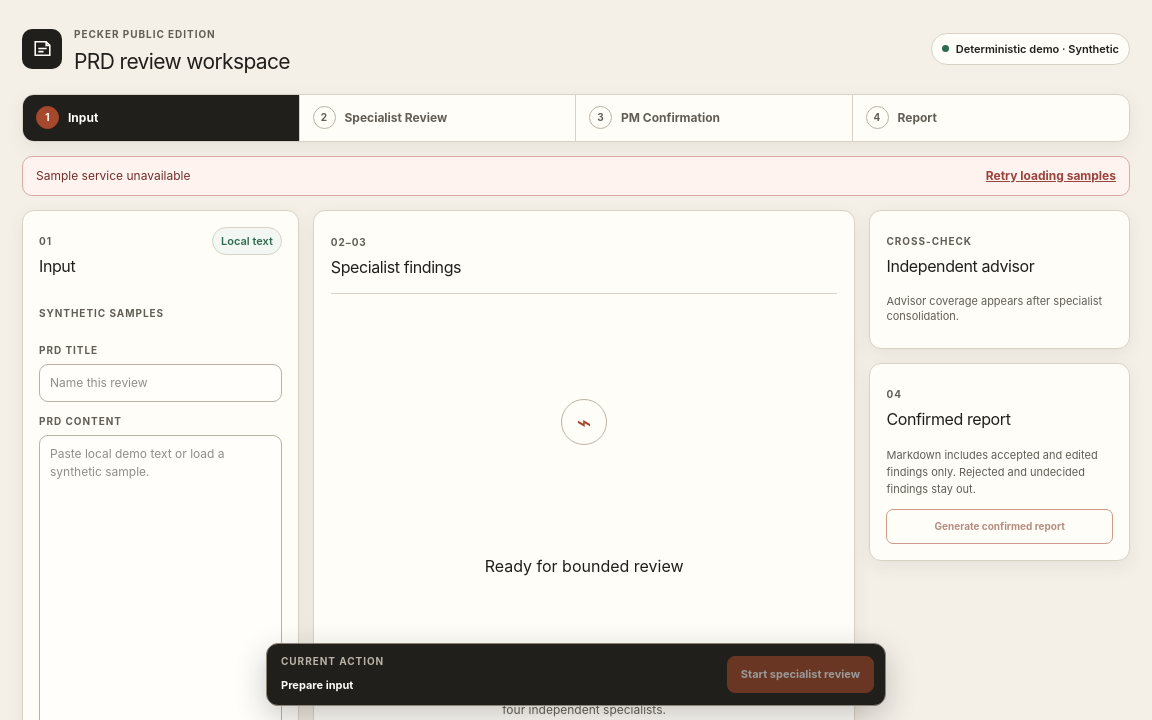
Test: ReviewWorkspace › recovers after the sample API fails
Check: the message shows "Sample service unavailable", box [36,168,190,182]
Step 1. Click the button "Retry loading samples" → click(1051, 176), box [986,166,1116,184]
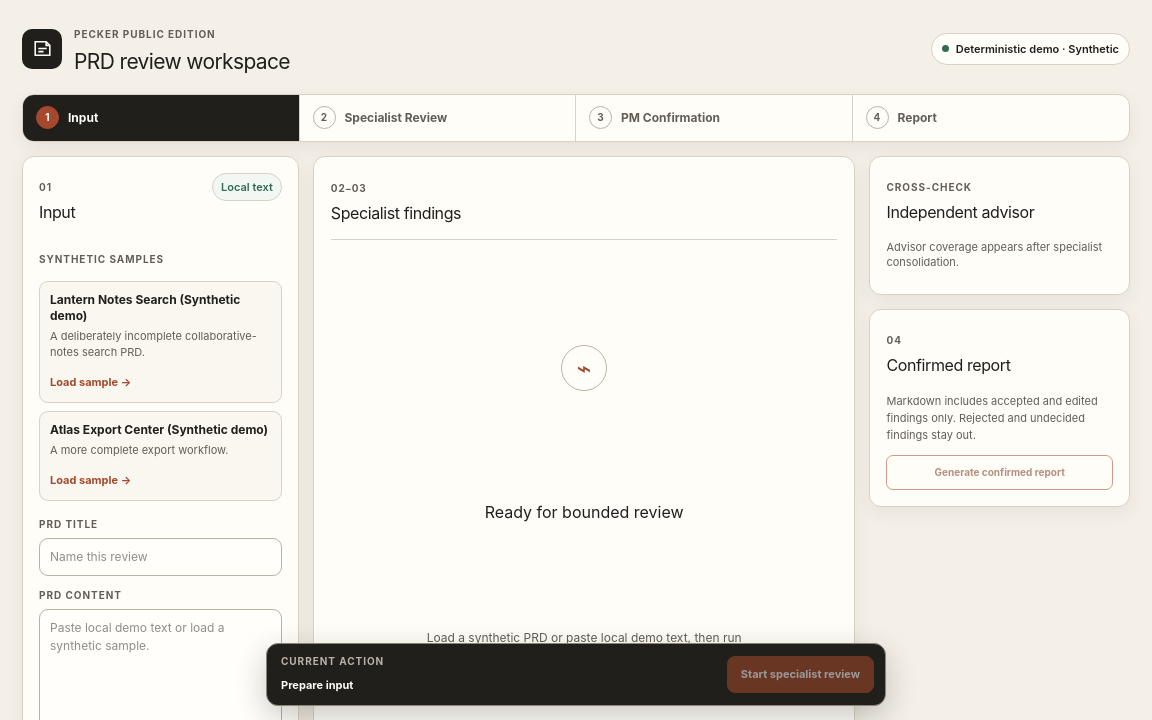
Check: the text "Lantern Notes Search (Synthetic demo)" is shown, box [50,292,271,324]
Check: the message "Sample service unavailable Retry loading samples" is gone
